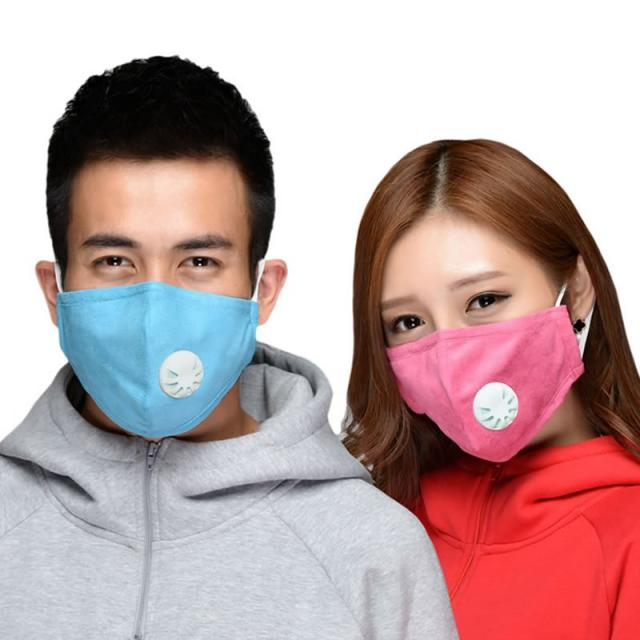mask: (64, 154, 250, 411), (376, 217, 562, 448)
